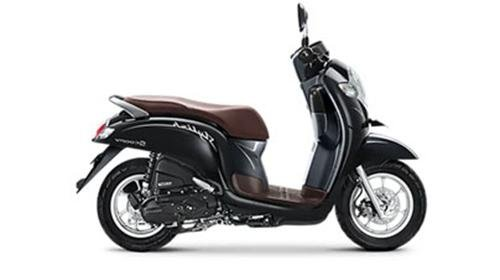motor: (87, 34, 431, 280)
